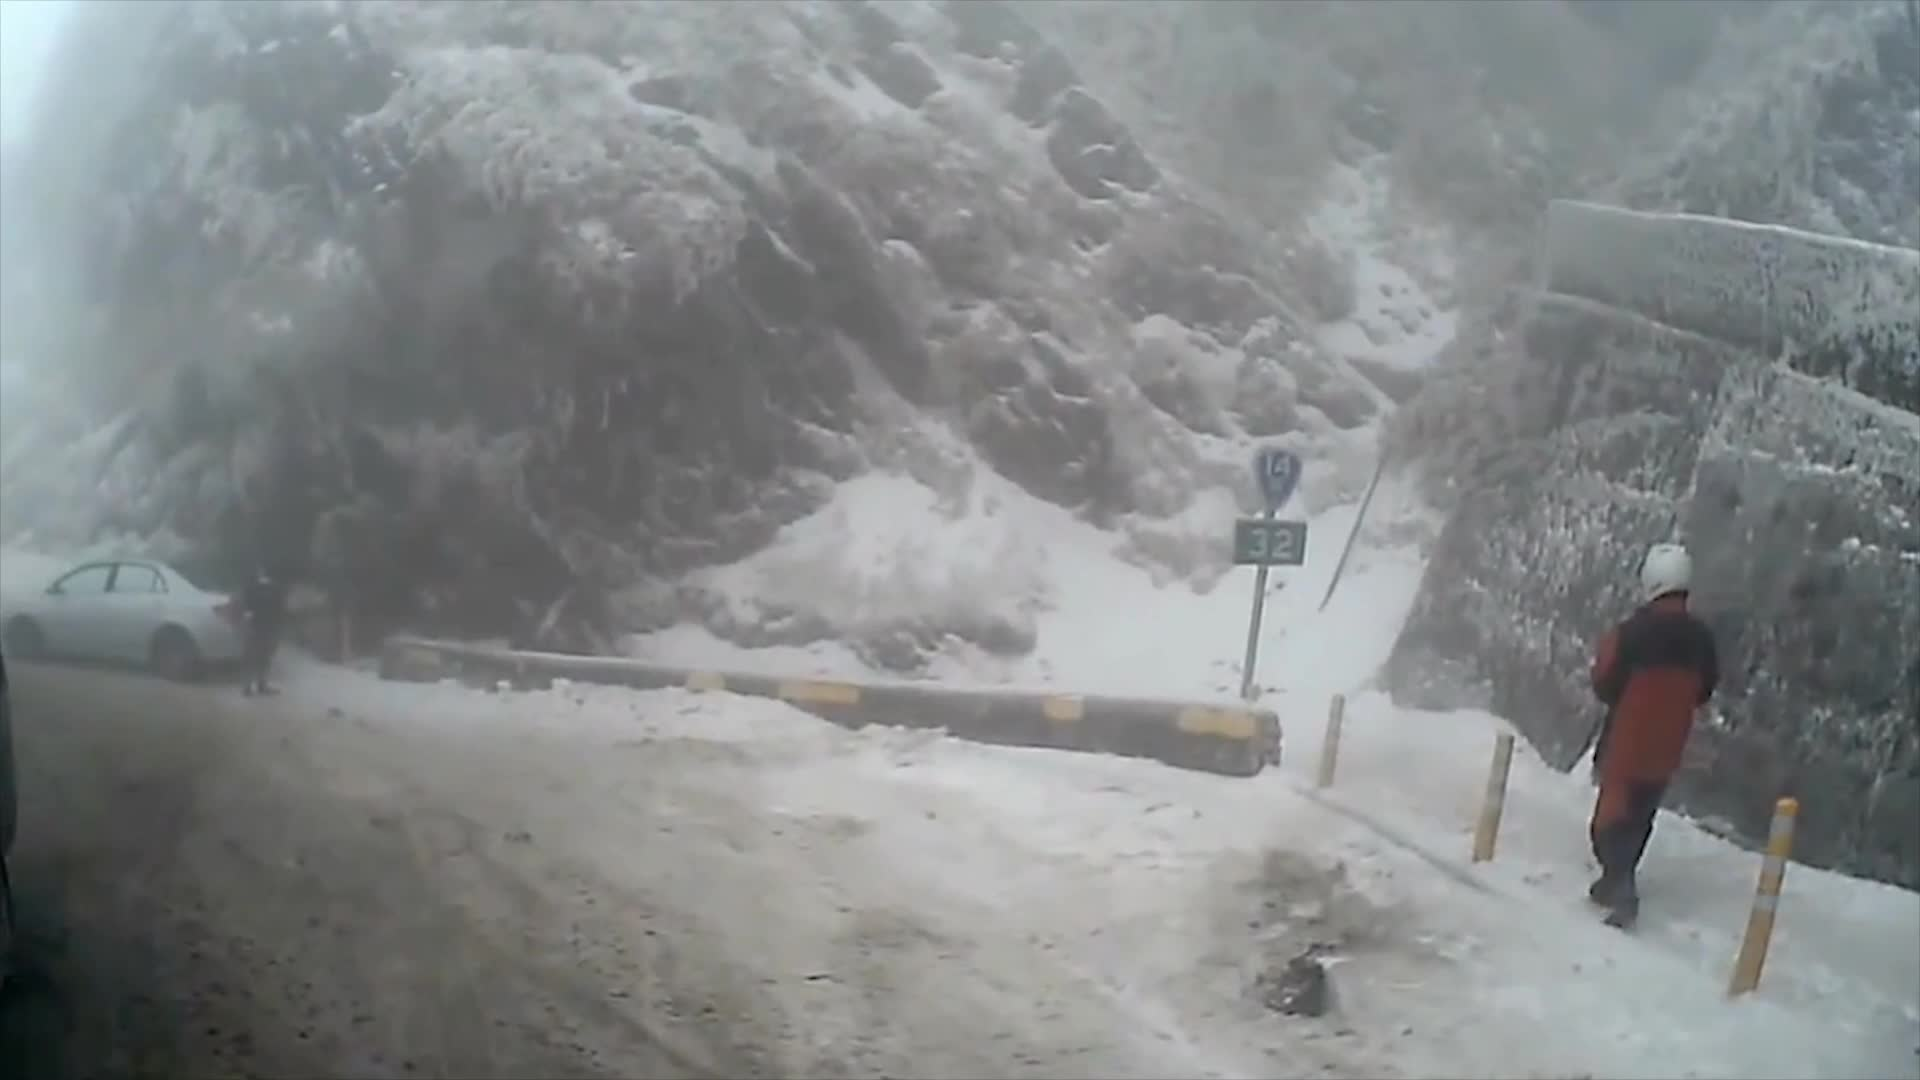pedestrian: (1581, 541, 1718, 933), (234, 566, 288, 698)
vehicle: (0, 555, 258, 683)
